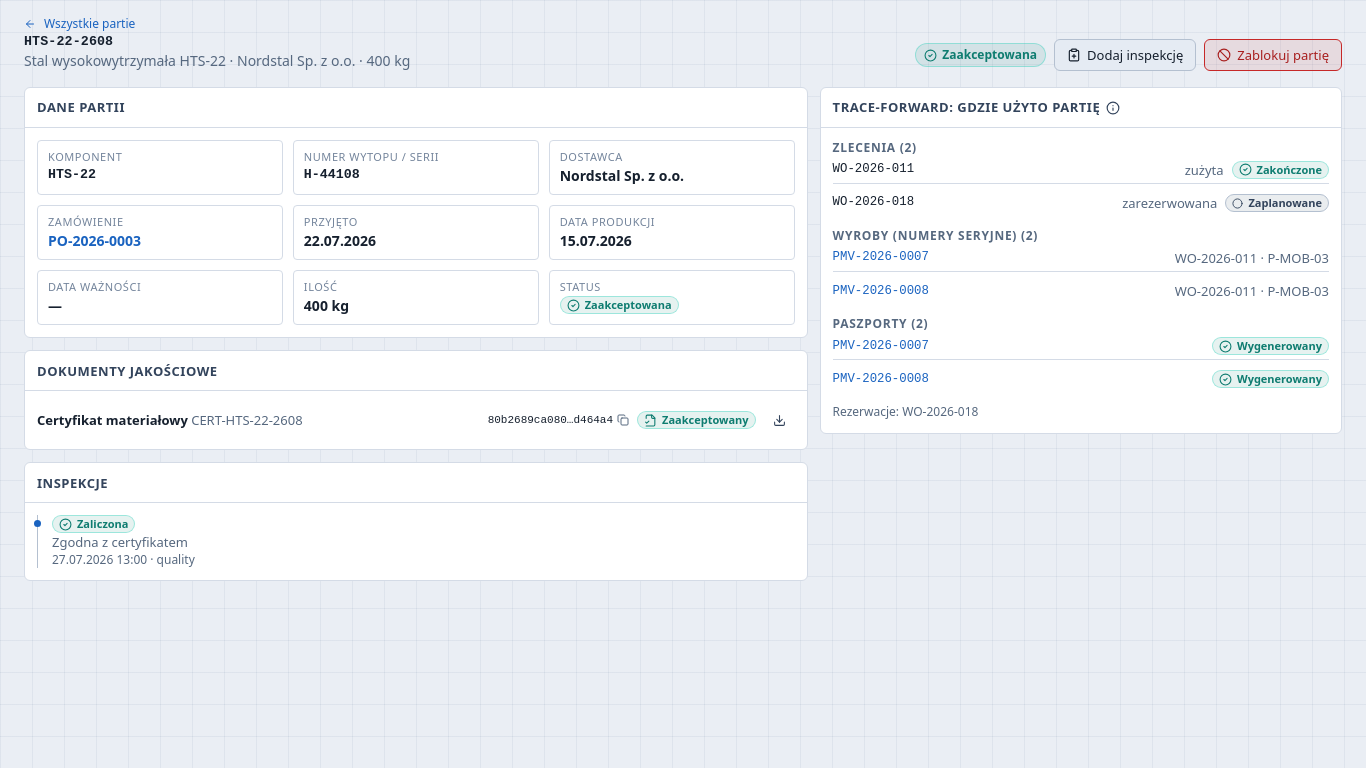
Test: Traceability › blocking HTS-22-2608 invalidates passports and lists affected records
The width and height of the screenshot is (1366, 768).
Click the button with test id "btn-block-lot" at coordinates (1273, 55), box [1204,39,1342,71]
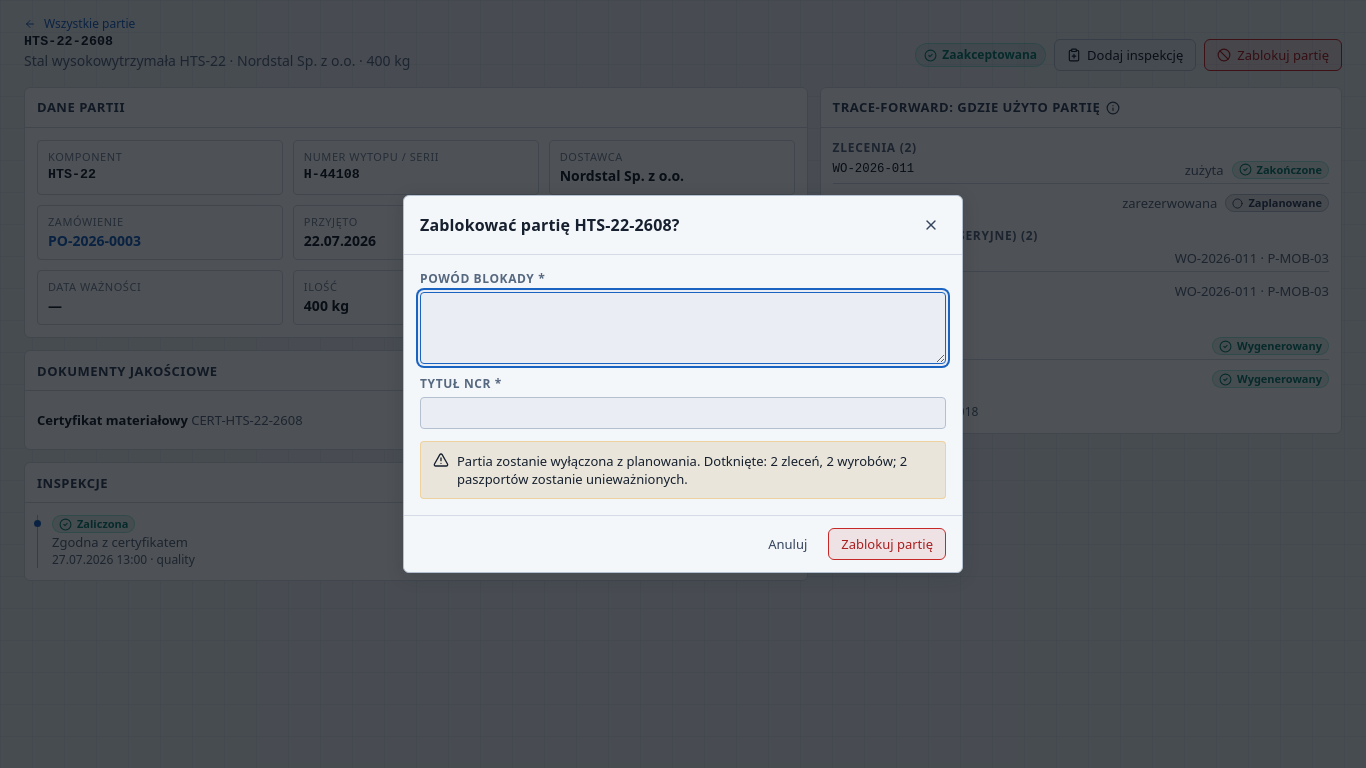
Type "NCR jakościowy" into the text box with test id "block-reason" at coordinates (683, 328), box [420,292,946,364]
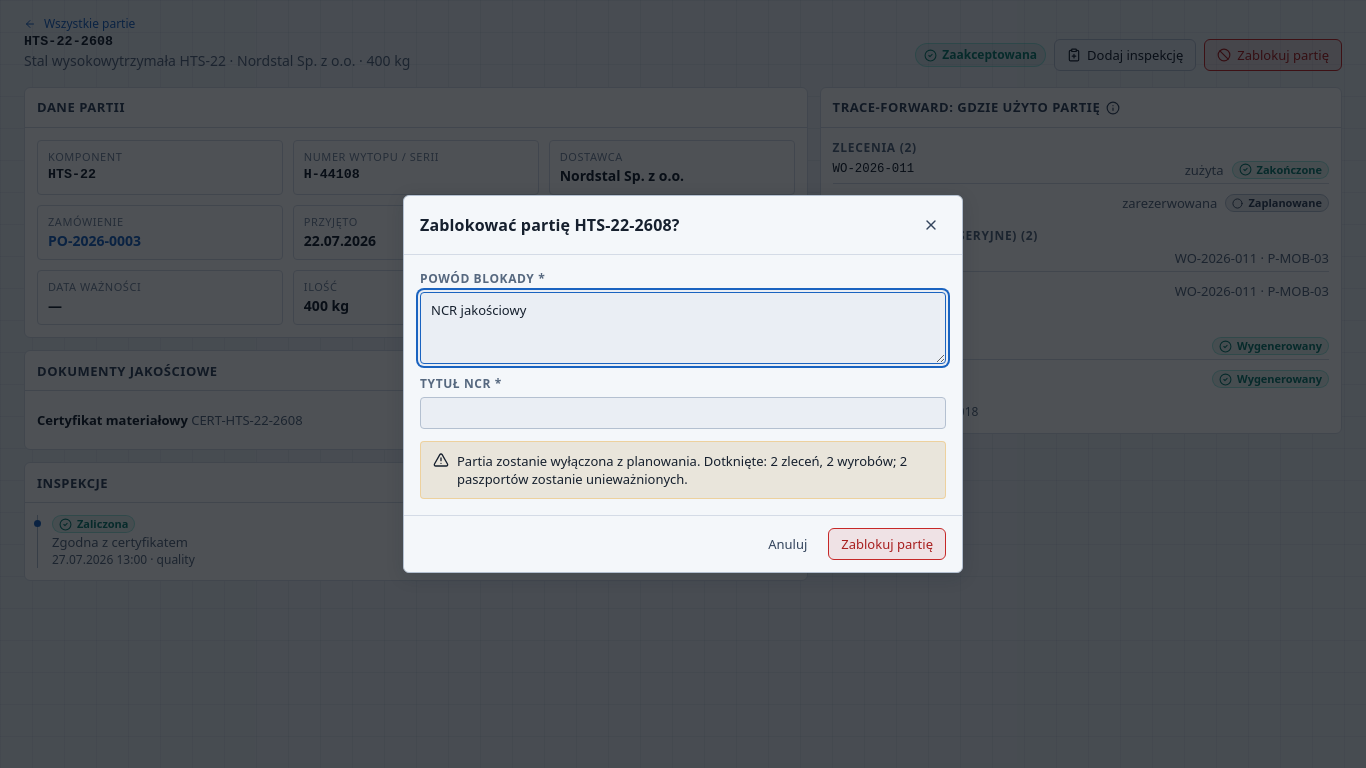
Type "Wtrącenia niemetaliczne" into the field with test id "block-ncr" at coordinates (683, 413), box [420,397,946,429]
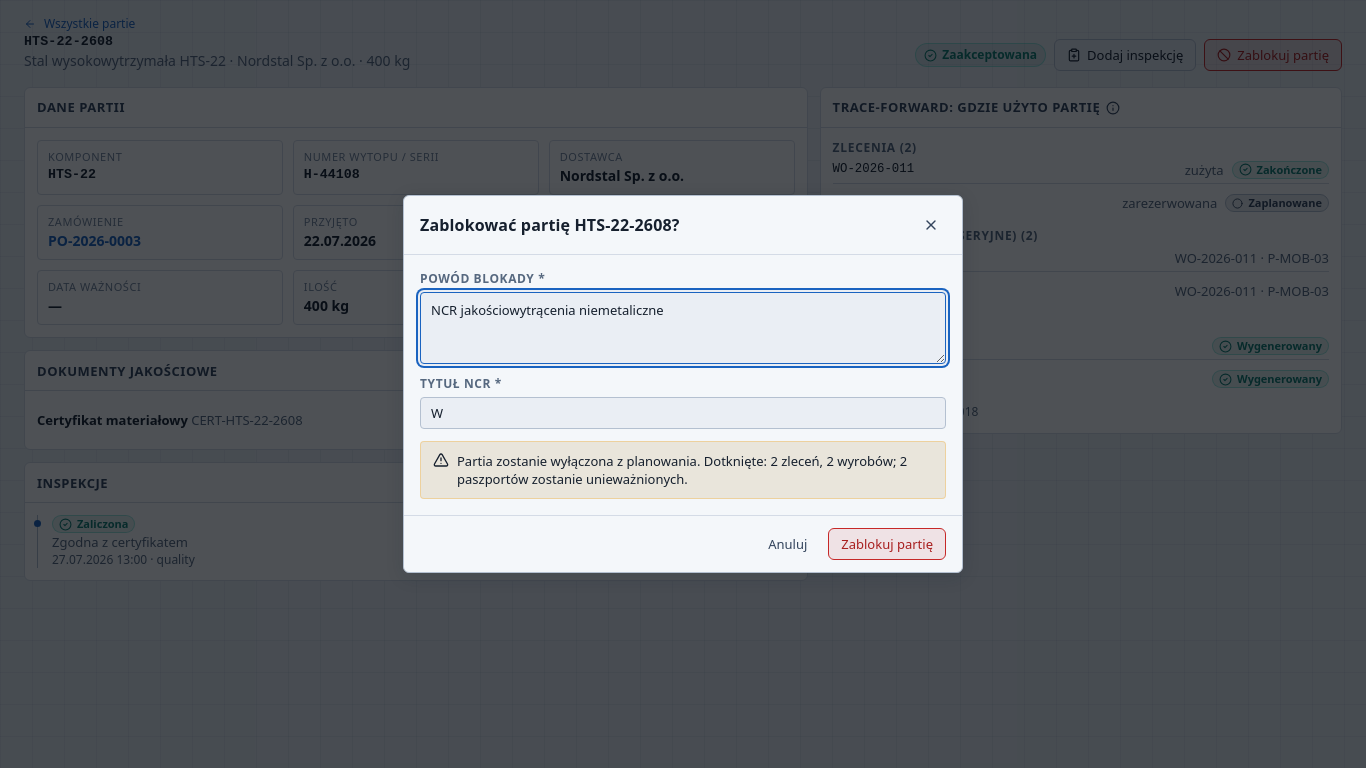
Click the button with test id "confirm-button" at coordinates (887, 544), box [828,528,946,560]
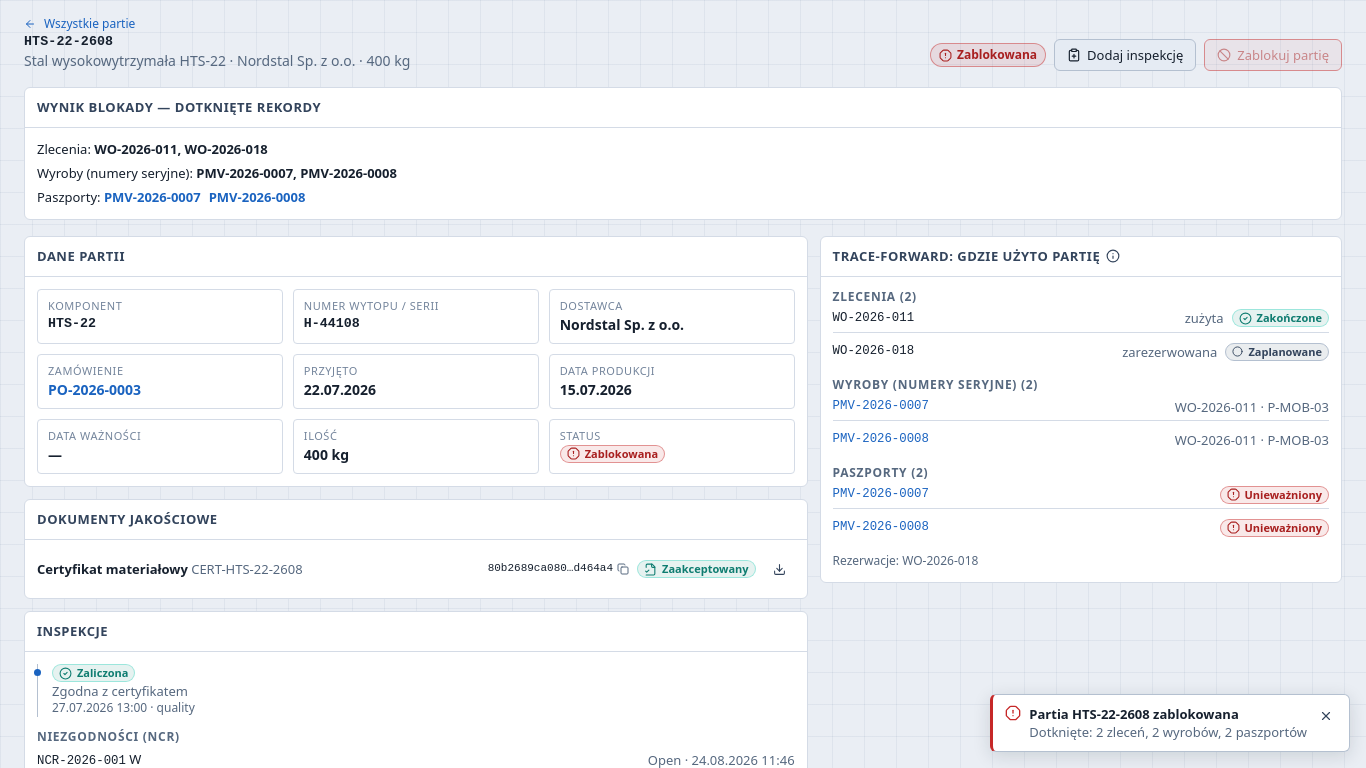
Check: the element with test id "block-result" is shown, box [24,87,1342,220]
Check: the element with test id "block-result" shows "WO-2026-011", box [94,140,268,158]
Check: the element with test id "block-result" shows "PMV-2026-0008", box [209,188,305,206]
